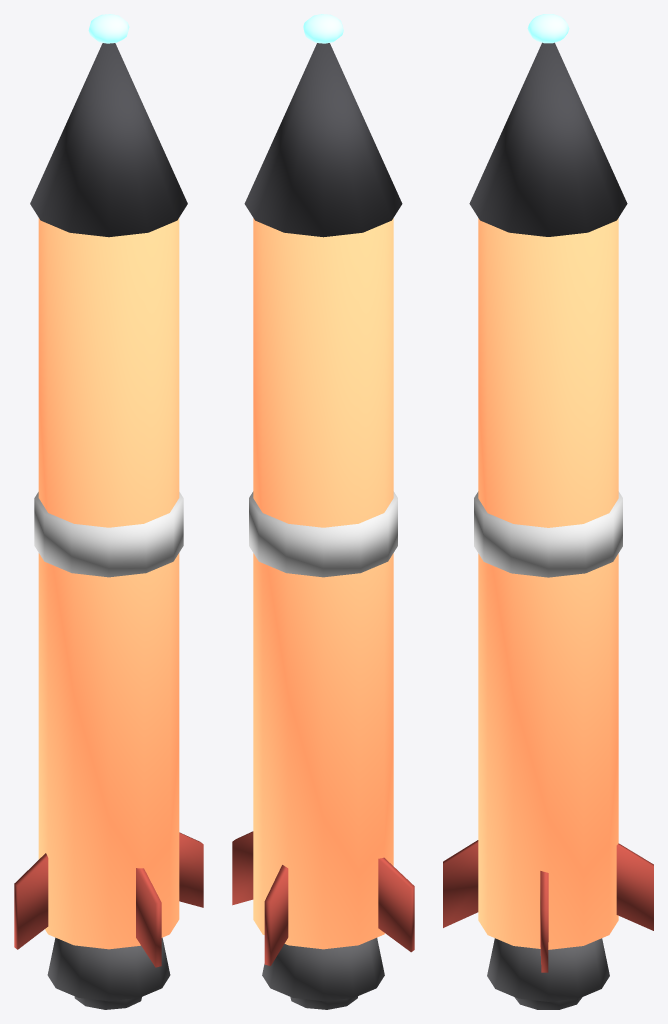
File: homing_missile.fbx
3 views of the same model, side by side, from view 1: azimuth 30°, elevation 25°; view 2: azimuth 150°, elevation 25°; view 3: azimuth 270°, elevation 25° (orthographic).
Parts seen in each view (by area): view 1: Body, SeekerTip, Sensor; view 2: Body, SeekerTip, Sensor; view 3: Body, SeekerTip, Sensor.
Boxes of the visible parts, x1,y1,x2,y2 form: Body: [14, 218, 203, 1009]; SeekerTip: [30, 43, 187, 237]; Sensor: [88, 14, 129, 43]; Body: [232, 218, 414, 1009]; SeekerTip: [244, 43, 402, 237]; Sensor: [303, 14, 343, 43]; Body: [443, 218, 653, 1009]; SeekerTip: [469, 42, 627, 236]; Sensor: [527, 14, 569, 43].
Size of the model in its own units: 0.24 by 1.23 by 0.24.
